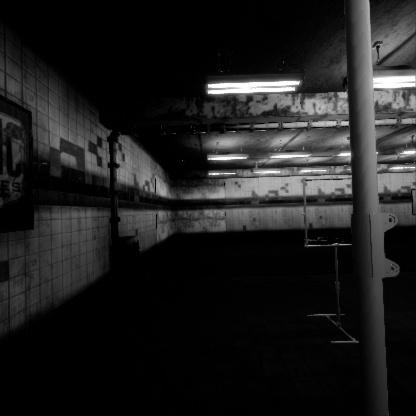gate: (302, 167, 373, 239)
